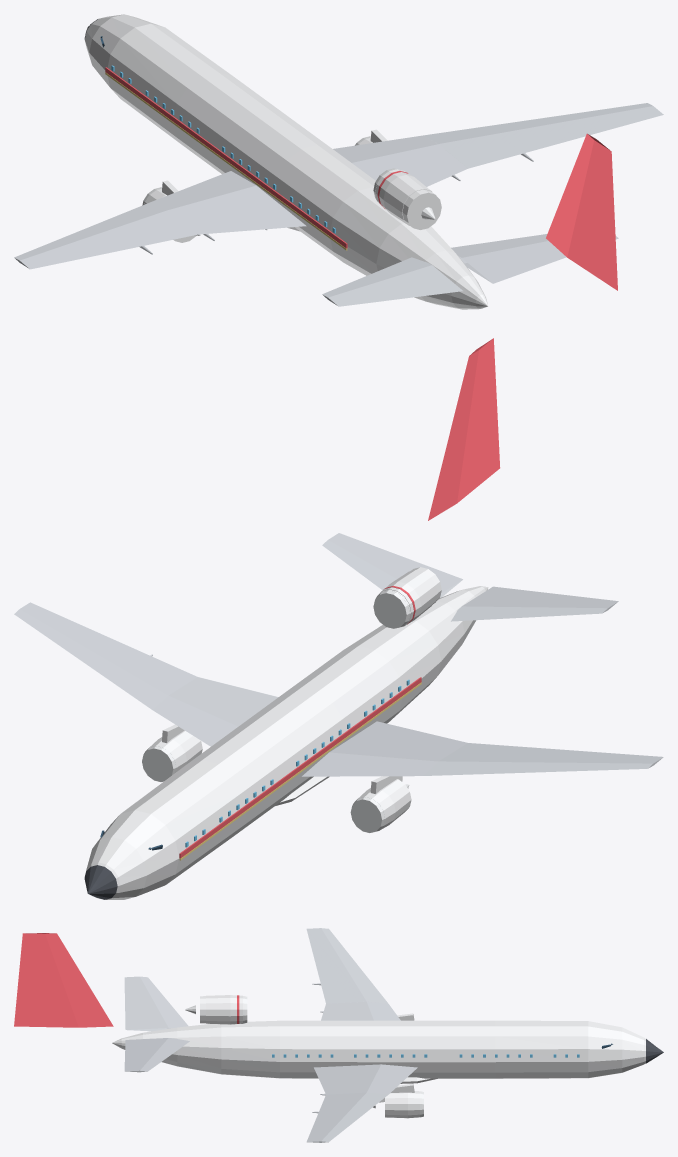
File: dc10_faceted.glb
3 renders of one model, top to bottom at view 1: azimuth 30°, elevation 25°; view 2: azimuth 150°, elevation 25°; view 3: azimuth 270°, elevation 25°, orthographic. The views are drawn at different scales.
Parts seen in each view (by area): view 1: DC10_Faceted_Body, DC10_Faceted_Wings, DC10_Faceted_Engines; view 2: DC10_Faceted_Body, DC10_Faceted_Wings, DC10_Faceted_Engines; view 3: DC10_Faceted_Body, DC10_Faceted_Wings, DC10_Faceted_Engines.
Boxes of the visible parts, x1=… form: DC10_Faceted_Body: x1=84, y1=14, x2=617, y2=309; DC10_Faceted_Wings: x1=14, y1=103, x2=663, y2=306; DC10_Faceted_Engines: x1=142, y1=129, x2=441, y2=242; DC10_Faceted_Body: x1=84, y1=338, x2=500, y2=899; DC10_Faceted_Wings: x1=14, y1=533, x2=663, y2=776; DC10_Faceted_Engines: x1=142, y1=567, x2=441, y2=832; DC10_Faceted_Body: x1=14, y1=933, x2=663, y2=1083; DC10_Faceted_Wings: x1=124, y1=928, x2=417, y2=1142; DC10_Faceted_Engines: x1=185, y1=995, x2=423, y2=1118.
Bounding box in the file's own units: 51.6 × 18.97 × 66.45.
